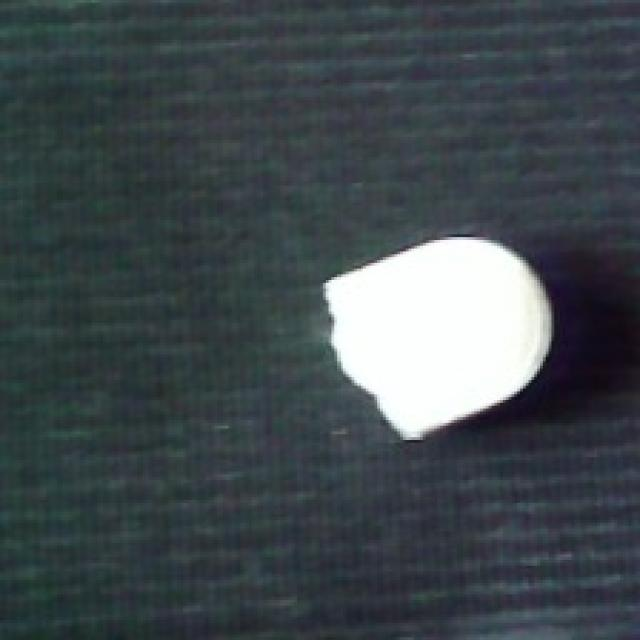defected: (314, 228, 563, 446)
